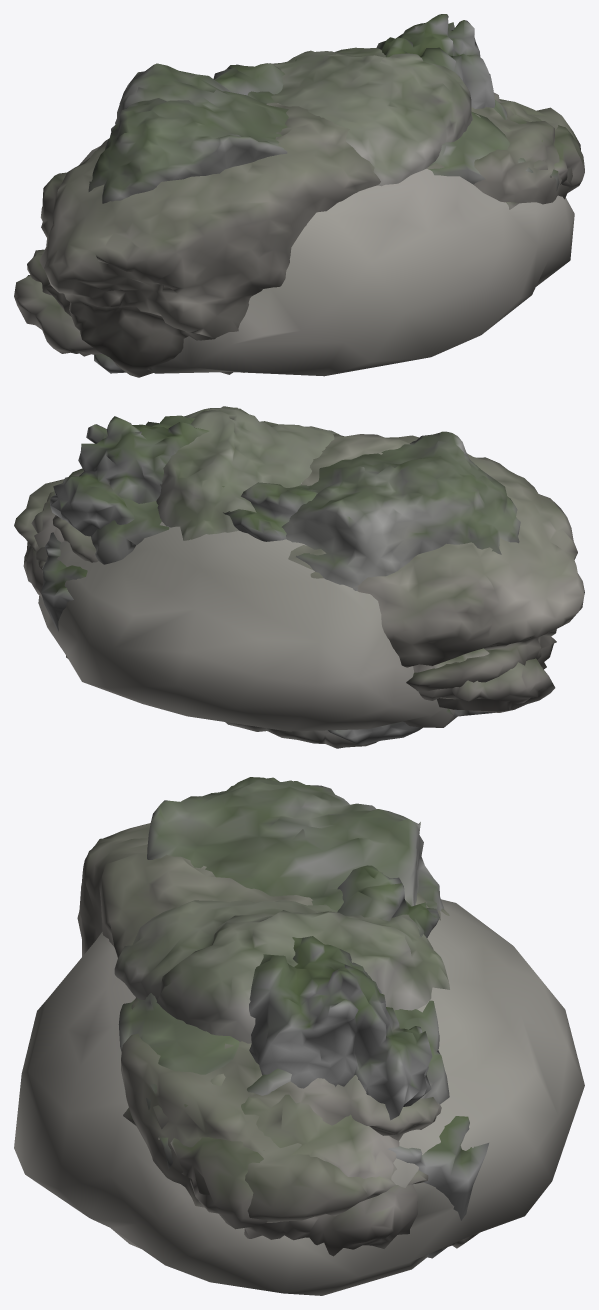
File: rocks-ultra.glb
3 renders of one model, top to bottom at view 1: azimuth 30°, elevation 25°; view 2: azimuth 150°, elevation 25°; view 3: azimuth 270°, elevation 25°, orthographic. The views are drawn at different scales.
Parts seen in each view (by area): view 1: rock2_near, pebble_near, rock1_near, rock0_near, rock3_near, rock4_near; view 2: pebble_near, rock2_near, rock1_near, rock3_near, rock0_near, rock4_near; view 3: pebble_near, rock2_near, rock1_near, rock3_near, rock0_near, rock4_near.
Boxes of the visible parts, x1,y1,x2,y2 form: rock2_near: (27,92,580,377); pebble_near: (79,103,574,376); rock1_near: (88,63,559,203); rock0_near: (269,47,472,186); rock3_near: (94,14,495,373); rock4_near: (14,99,584,374); pebble_near: (36,482,457,731); rock2_near: (14,434,584,699); rock1_near: (91,431,520,590); rock3_near: (41,415,495,744); rock0_near: (156,406,377,748); rock4_near: (23,468,555,712); pebble_near: (14,899,584,1295); rock2_near: (77,823,449,1222); rock1_near: (118,777,449,1168); rock3_near: (249,865,488,1258); rock0_near: (114,900,449,1043); rock4_near: (123,1073,479,1256).
Size of the model in its own units: 3.03 by 1.3 by 2.2.
